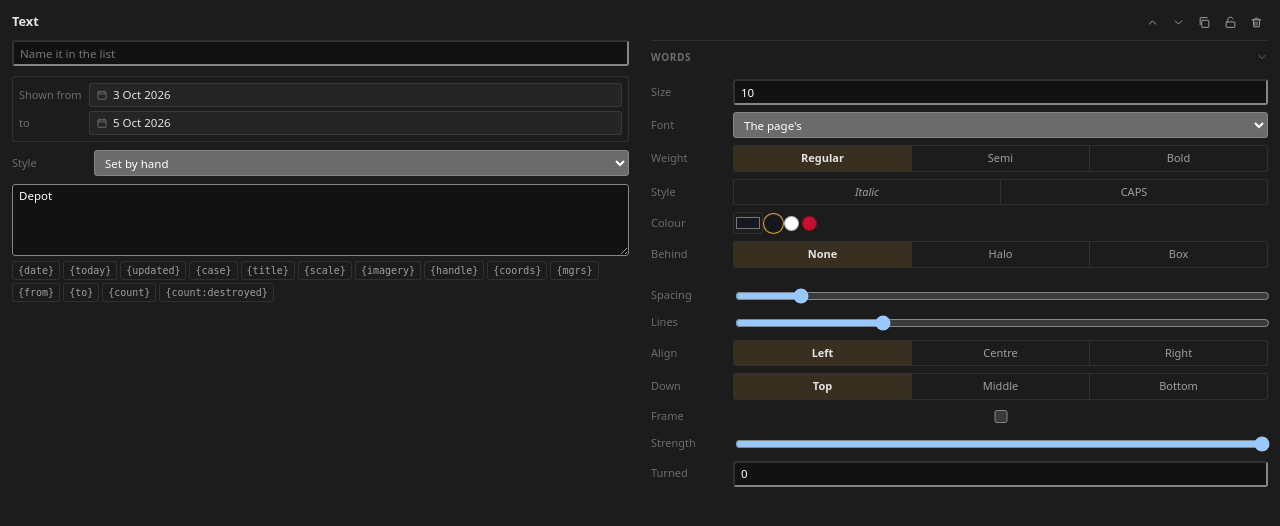
Test: the days an annotation is shown on › takes either end from a calendar of any day, or opens it to the start or to the end
Click the button "5 Oct 2026": {"x": 142, "y": 123} [89,111,622,135]
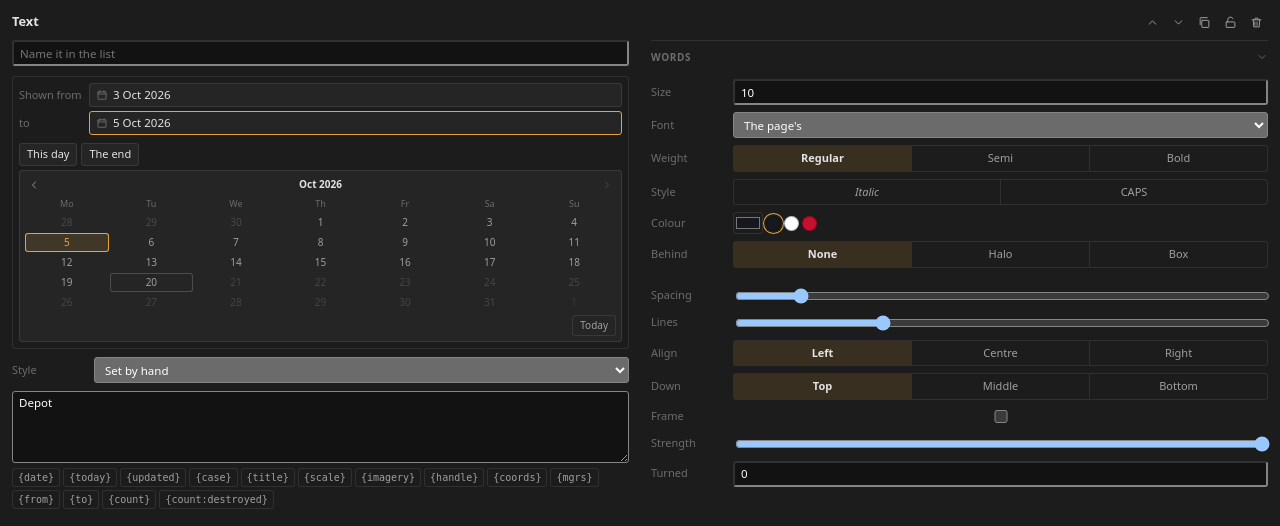
Click the button titled "2026-10-12": {"x": 67, "y": 262} [25,253,109,272]
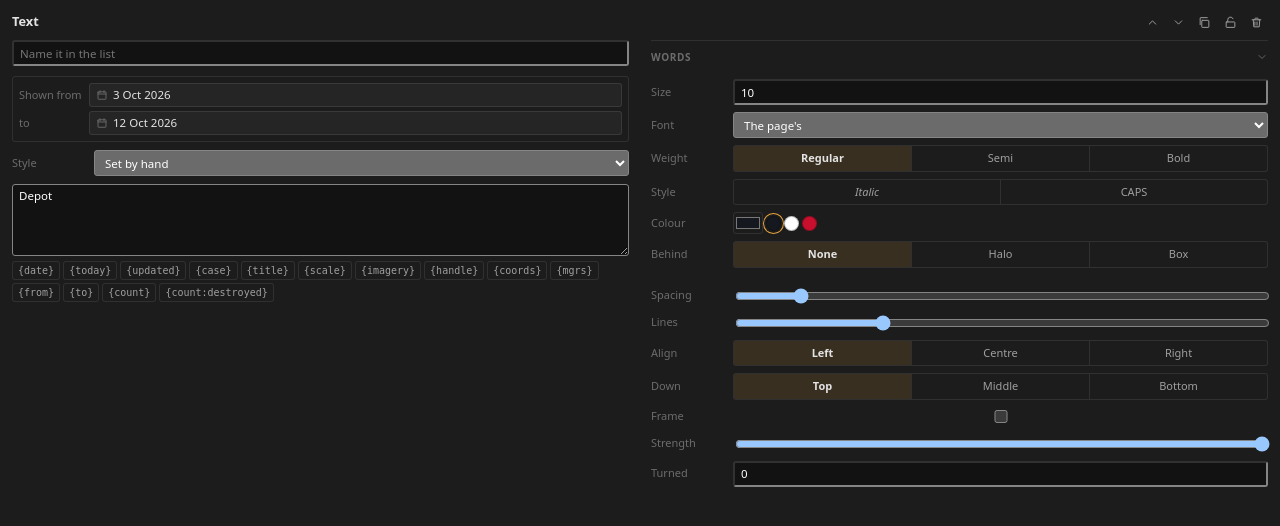
expect the button titled "2026-10-12" is gone: met
Click the button "3 Oct 2026": {"x": 142, "y": 95} [89,83,622,107]
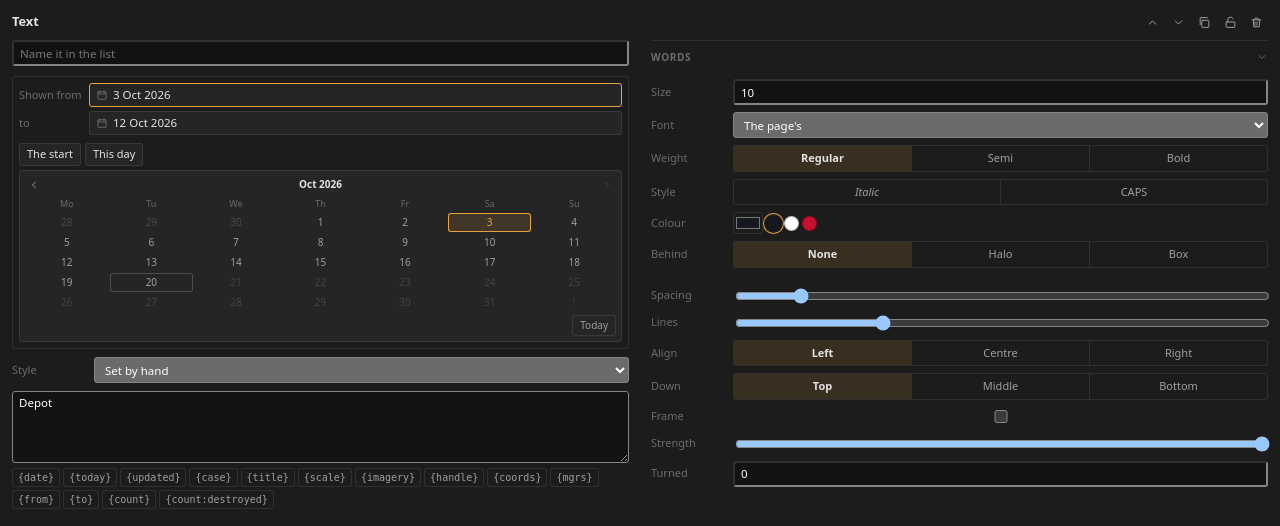
Click the button "The start": {"x": 50, "y": 154} [19,143,81,166]
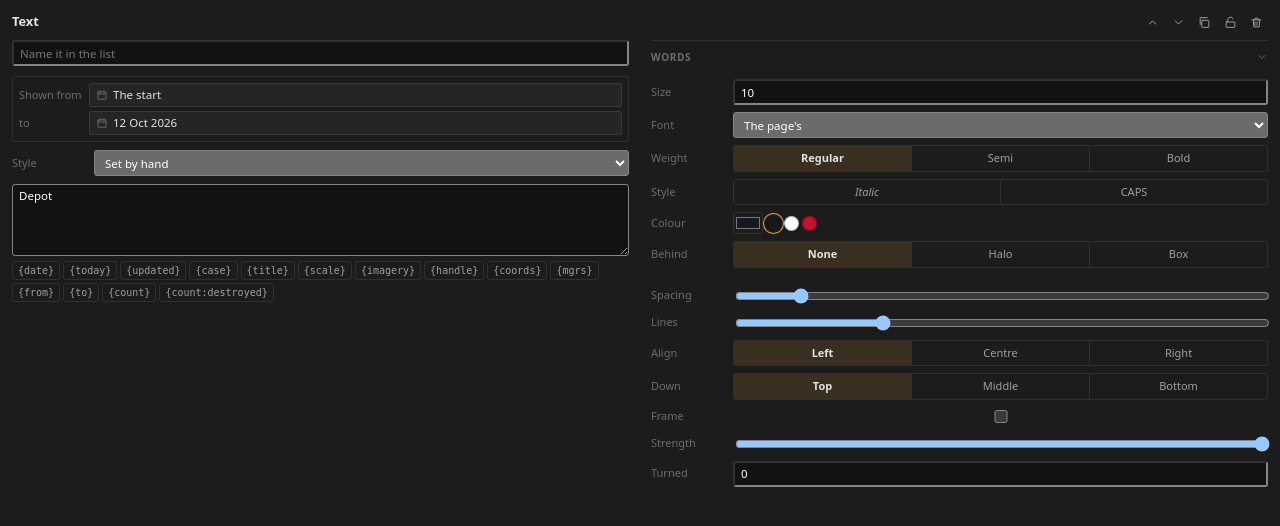
expect the button "The start" is shown: met, box [89,83,622,107]
Click the button "12 Oct 2026": {"x": 145, "y": 123} [89,111,622,135]
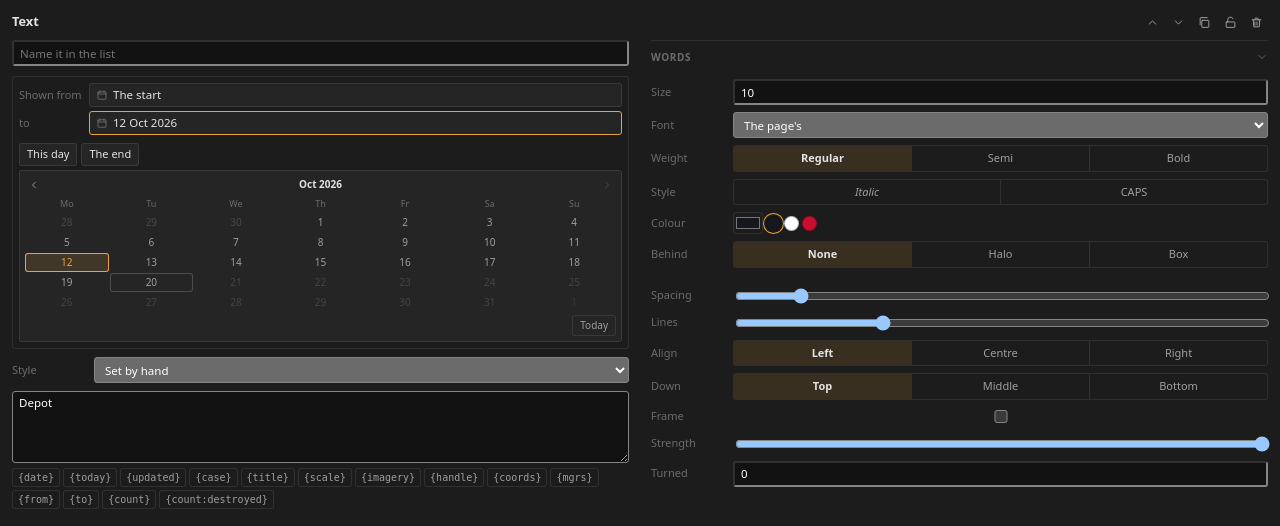
Click the button "The end": {"x": 110, "y": 154} [81,143,139,166]
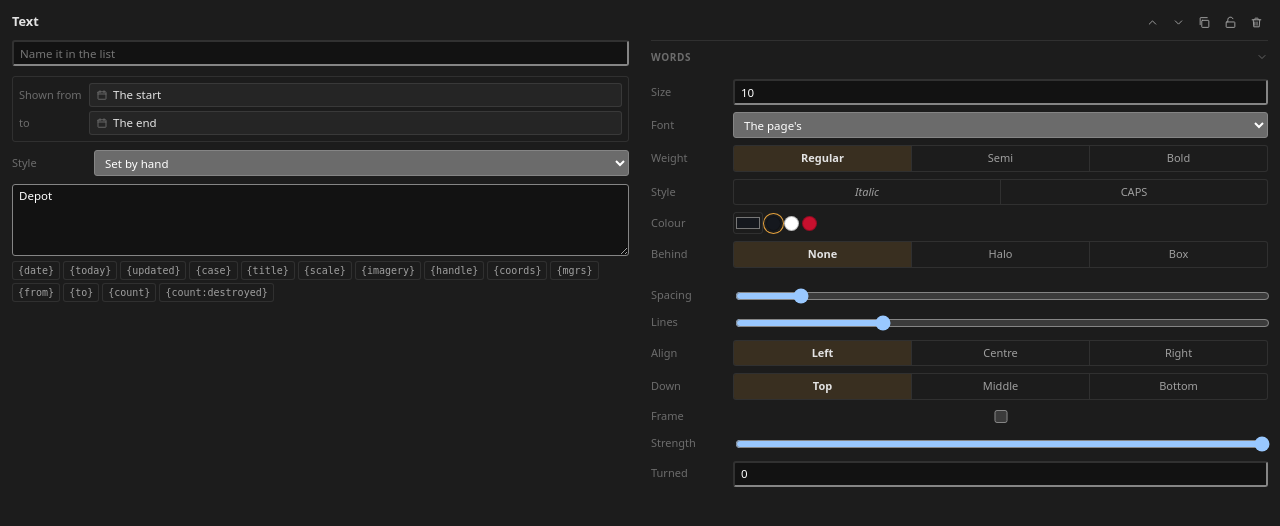
expect the button "The end" is shown: met, box [89,111,622,135]
